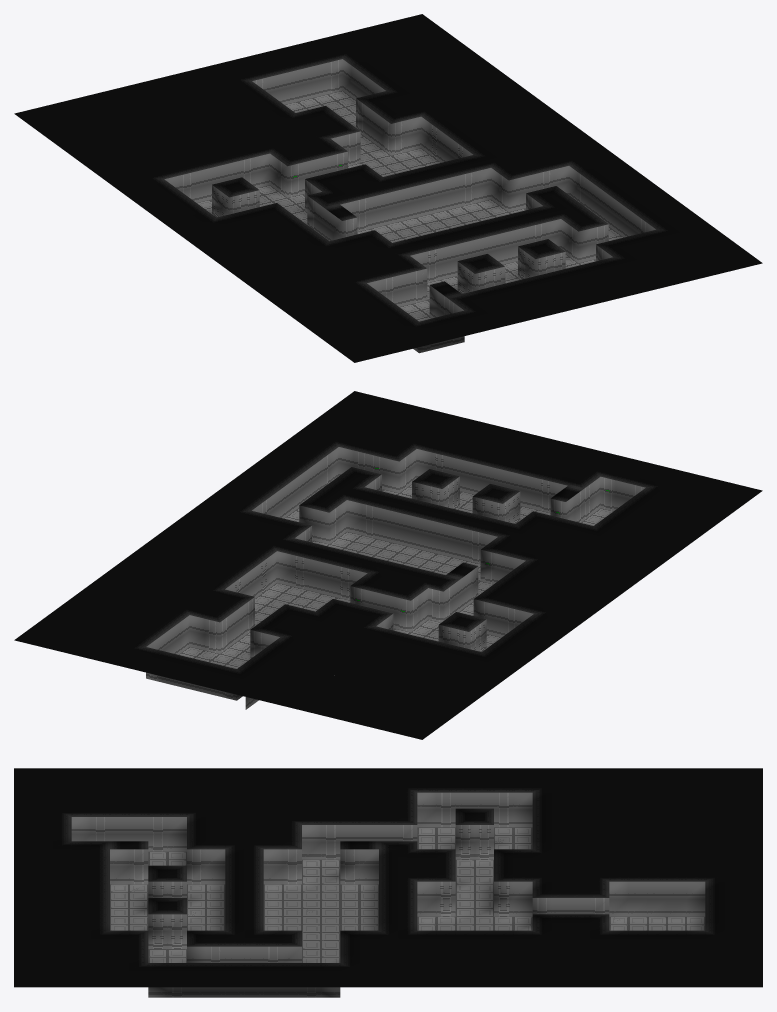
File: tutorial.obj
3 renders of one model, top to bottom at view 1: azimuth 30°, elevation 25°; view 2: azimuth 150°, elevation 25°; view 3: azimuth 270°, elevation 25°, orthographic. The views are drawn at different scales.
Visible parts, largest first — view 1: Default; view 2: Default; view 3: Default.
Boxes of the visible parts, x1,y1,x2,y2 form: Default: (14,14,762,362); Default: (14,391,762,739); Default: (14,768,762,997).
Bounding box in the file's own units: 27 × 3 × 39.
Materials: 1 (1 with a texture image).
